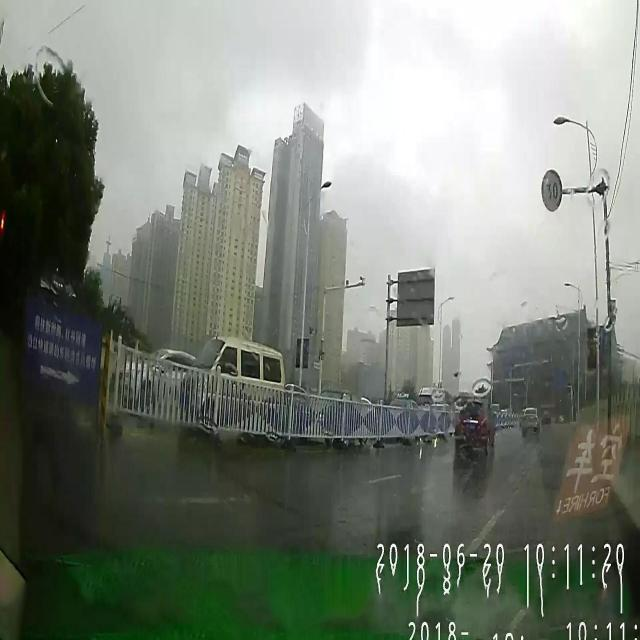car: (181, 337, 284, 445), (119, 348, 198, 414), (454, 396, 496, 458), (519, 406, 539, 438)
